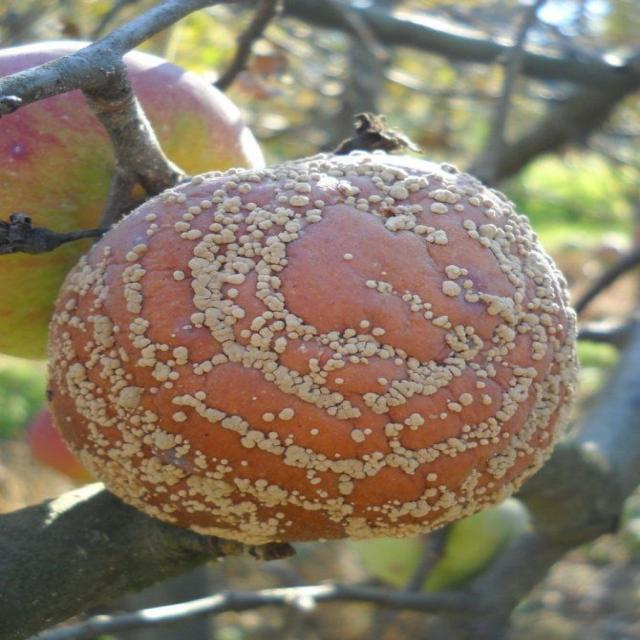Rotten: (47, 152, 588, 536)
